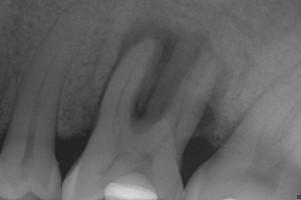Dental Caries: (115, 16, 212, 118), (192, 53, 235, 137)
